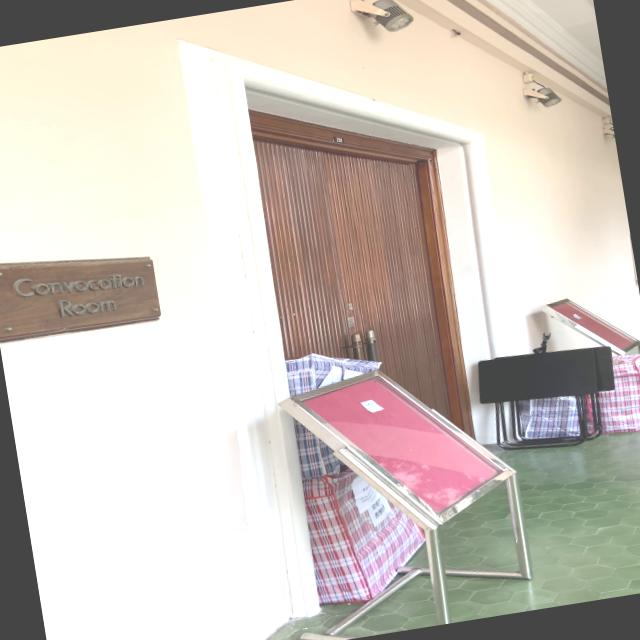room218: (332, 134, 345, 146)
